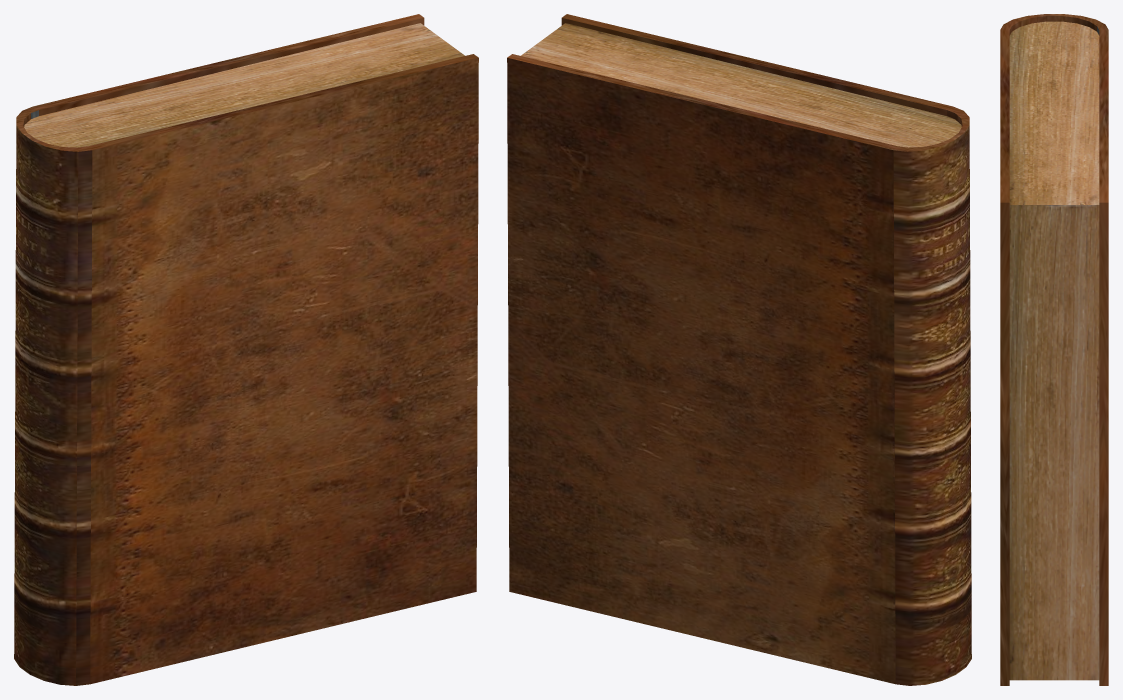
The model's file is SM_Book07.fbx.
The picture shows the model from 3 angles, left to right: view 1: azimuth 30°, elevation 25°; view 2: azimuth 150°, elevation 25°; view 3: azimuth 270°, elevation 25°; orthographic projection. The views are drawn at different scales.
Parts seen in each view (by area): view 1: SM_Book_HP.010; view 2: SM_Book_HP.010; view 3: SM_Book_HP.010.
Boxes of the visible parts, x1,y1,x2,y2 form: SM_Book_HP.010: (14,14,478,685); SM_Book_HP.010: (507,14,971,685); SM_Book_HP.010: (1000,14,1108,685).
Bounding box in the file's own units: 17.23 × 20.78 × 4.2.
Materials: 2 (2 with a texture image).
